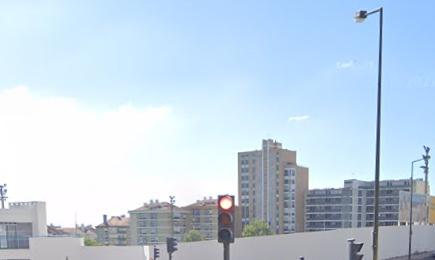red_light: (218, 195, 234, 243)
